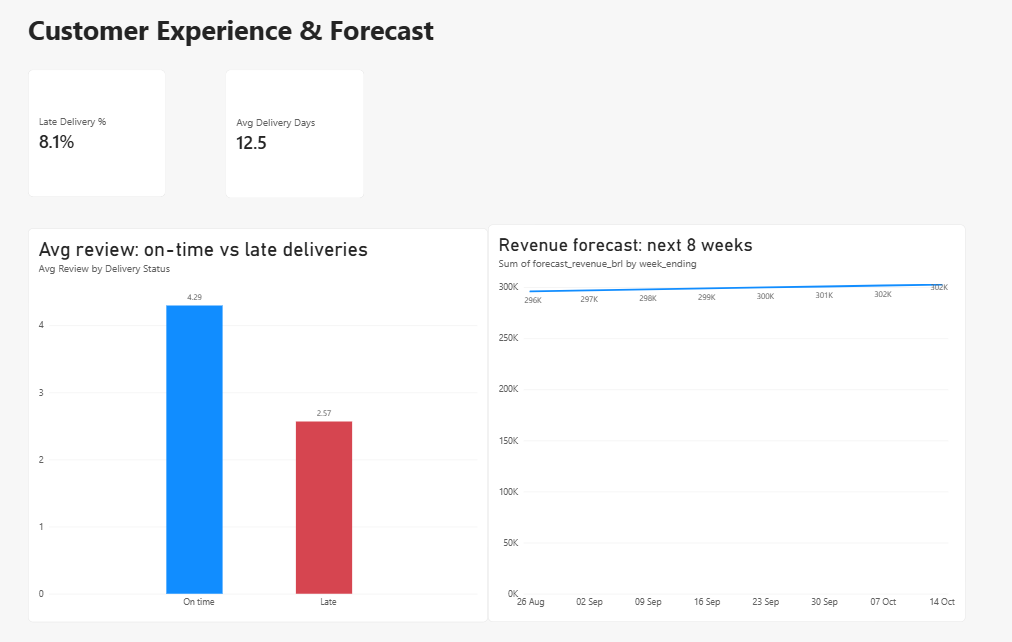

The page's visual inventory and layout, read from the dashboard file:
{"tool":"powerbi","page":{"name":"Customer Experience & Forecast","canvas":[1920,1080],"ordinal":2},"visuals":[{"type":"clusteredColumnChart","title":"Avg review: on-time vs late deliveries","fields":{"Category":["fact_sales.Delivery Status"],"Y":["fact_sales.Avg Review"]},"box":[88,378,736,630],"z":0},{"type":"cardVisual","fields":{"Data":["fact_sales.Late Delivery %"]},"box":[88,124,220,204],"z":1000},{"type":"cardVisual","fields":{"Data":["fact_sales.Avg Delivery Days"]},"box":[404,124,222,206],"z":2000},{"type":"lineChart","title":"Revenue forecast: next 8 weeks","fields":{"Category":["forecast_next_8_weeks.week_ending"],"Y":["Sum(forecast_next_8_weeks.forecast_revenue_brl)"]},"box":[824,372,764,636],"z":3000},{"type":"textbox","box":[88,30,672,94],"z":4000}]}

Visuals, with their boxes on the page's 1920x1080 design canvas (x1, y1, x2, y2). These are canvas units, not pixel positions in the 1012x642 screenshot, which may show the page scaled, cropped or inside an application window:
"Avg review: on-time vs late deliveries" clusteredColumnChart: <bbox>88, 378, 824, 1008</bbox>
cardVisual - fact_sales.Late Delivery %: <bbox>88, 124, 308, 328</bbox>
cardVisual - fact_sales.Avg Delivery Days: <bbox>404, 124, 626, 330</bbox>
"Revenue forecast: next 8 weeks" lineChart: <bbox>824, 372, 1588, 1008</bbox>
textbox: <bbox>88, 30, 760, 124</bbox>
